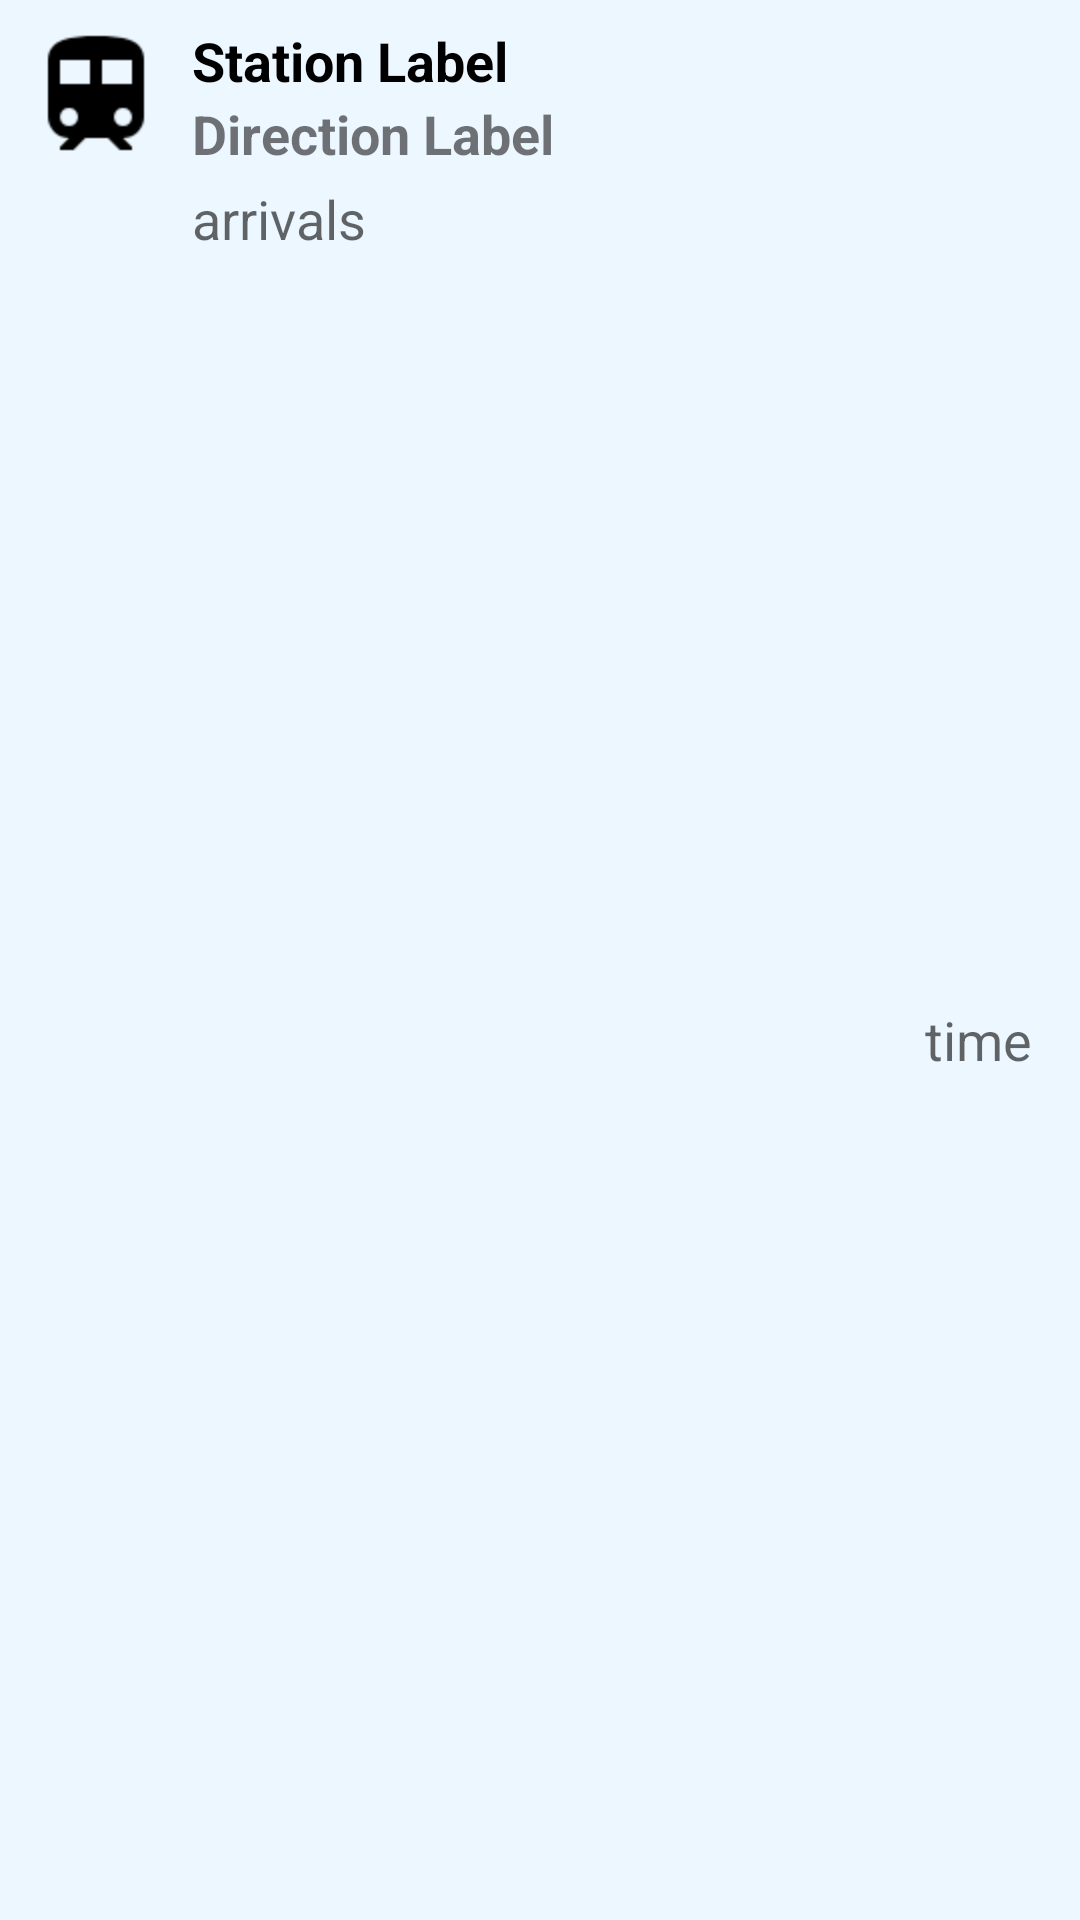

Locate icon controls on the screen. Image size 1080px x 1920px, boxes as box=[x1, y1, x2, y2].
train: box=[47, 35, 145, 151]
